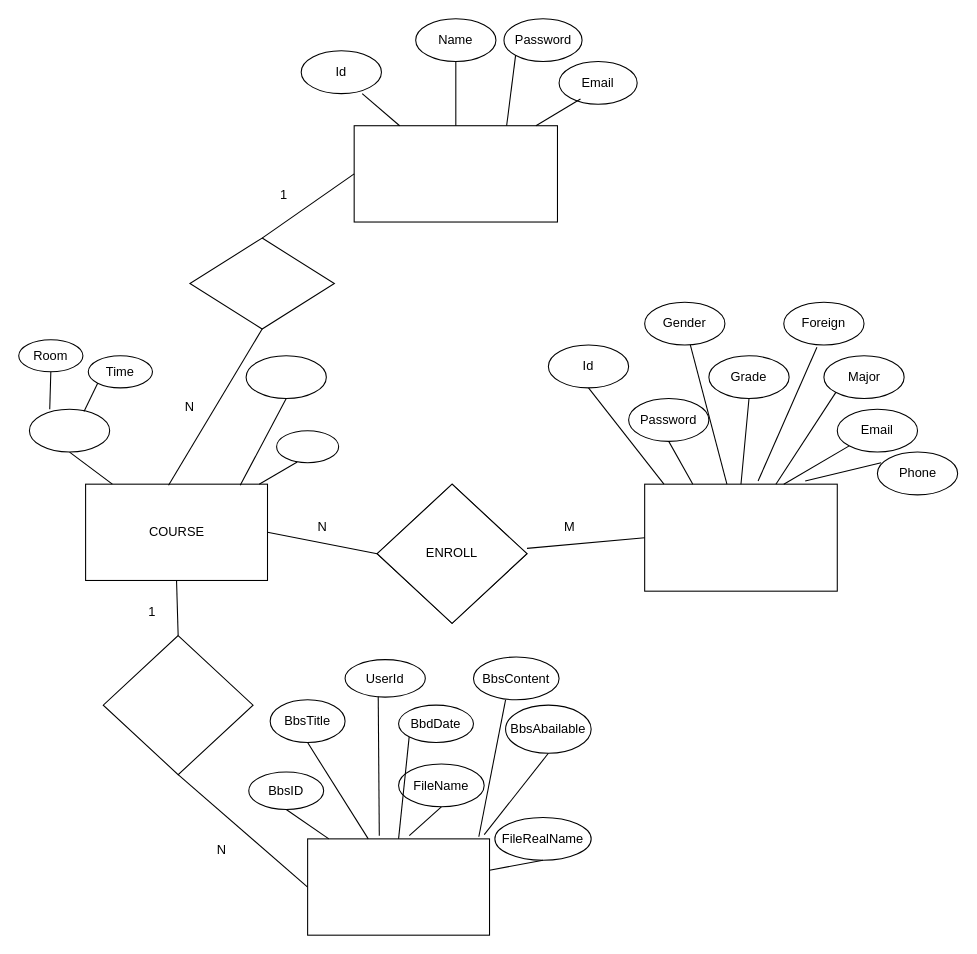
Some shapes in this 977 by 954 pixel diagram are drawn without their labels. Here are the shapes that lost their labels. From the top down, the centre of each, then its label:
At point (455, 173): "PROFESSOR".
At point (261, 283): "TEACH".
At point (285, 377): "CName".
At point (69, 430): "CNum".
At point (307, 446): "Sem".
At point (740, 537): "STUDENT".
At point (177, 705): "VIEW".
At point (398, 886): "BBS".
